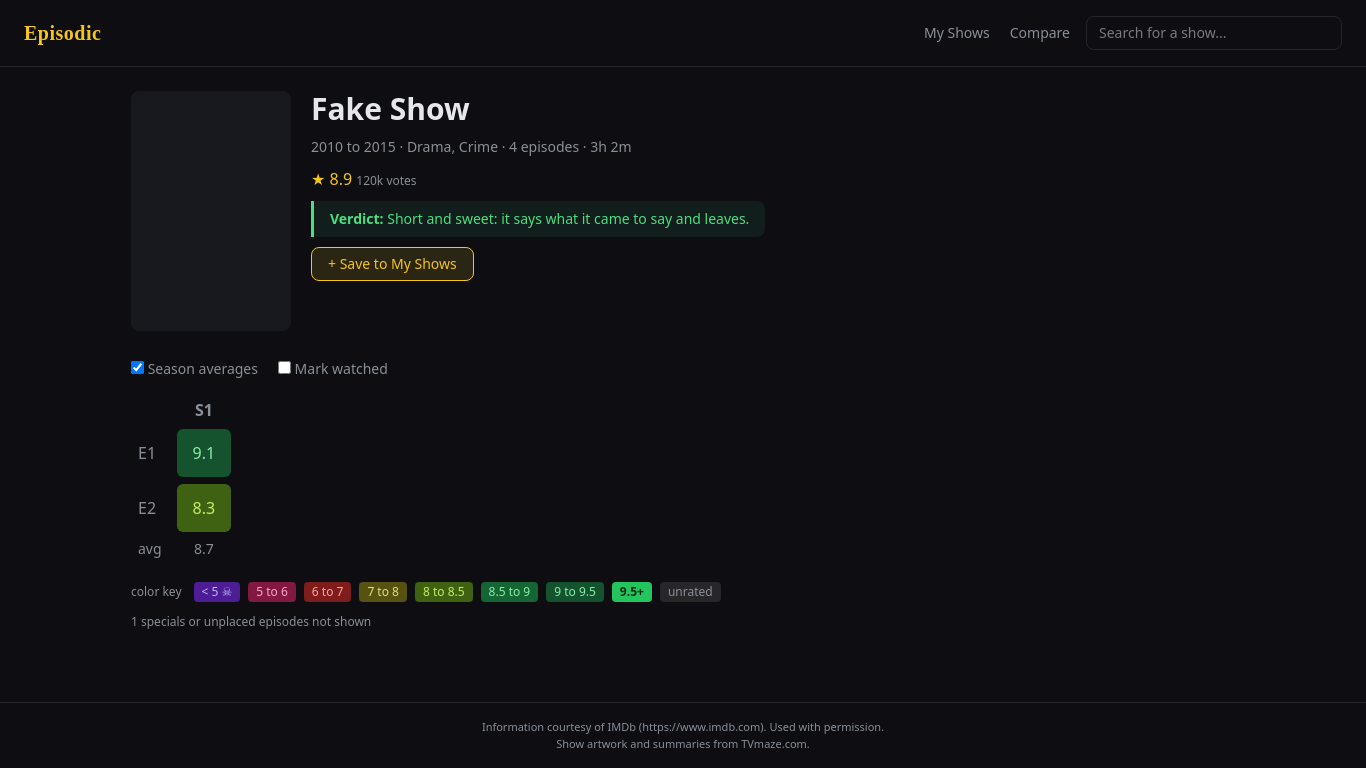
Test case: Show page › marks an episode watched through watch mode
Expected: the heading "Fake Show" is shown, top-left (311, 88), bottom-right (470, 129)
Step 1. Click the checkbox labelled "Mark watched" → (284, 368), box top-left (278, 361), bottom-right (291, 374)
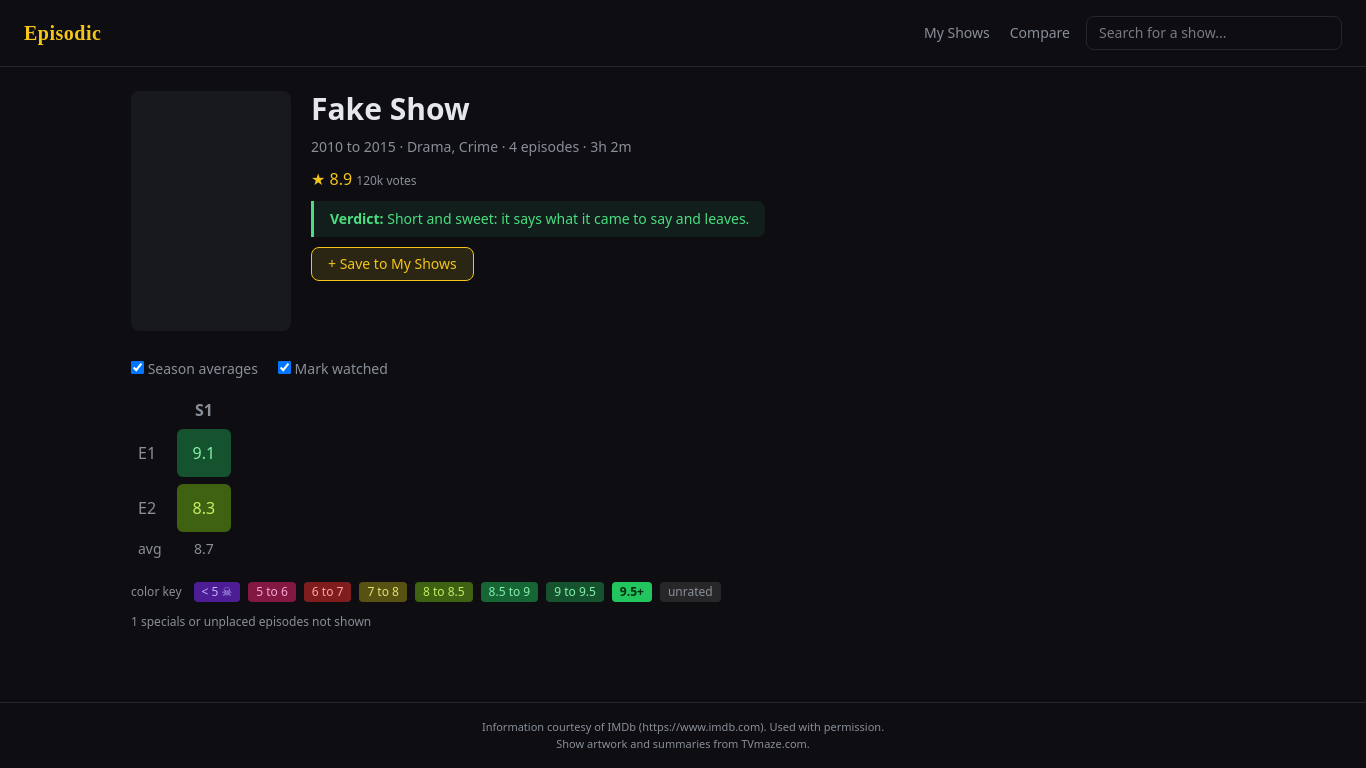
Step 2. Click the button "9.1" → (204, 453), box top-left (177, 429), bottom-right (231, 477)
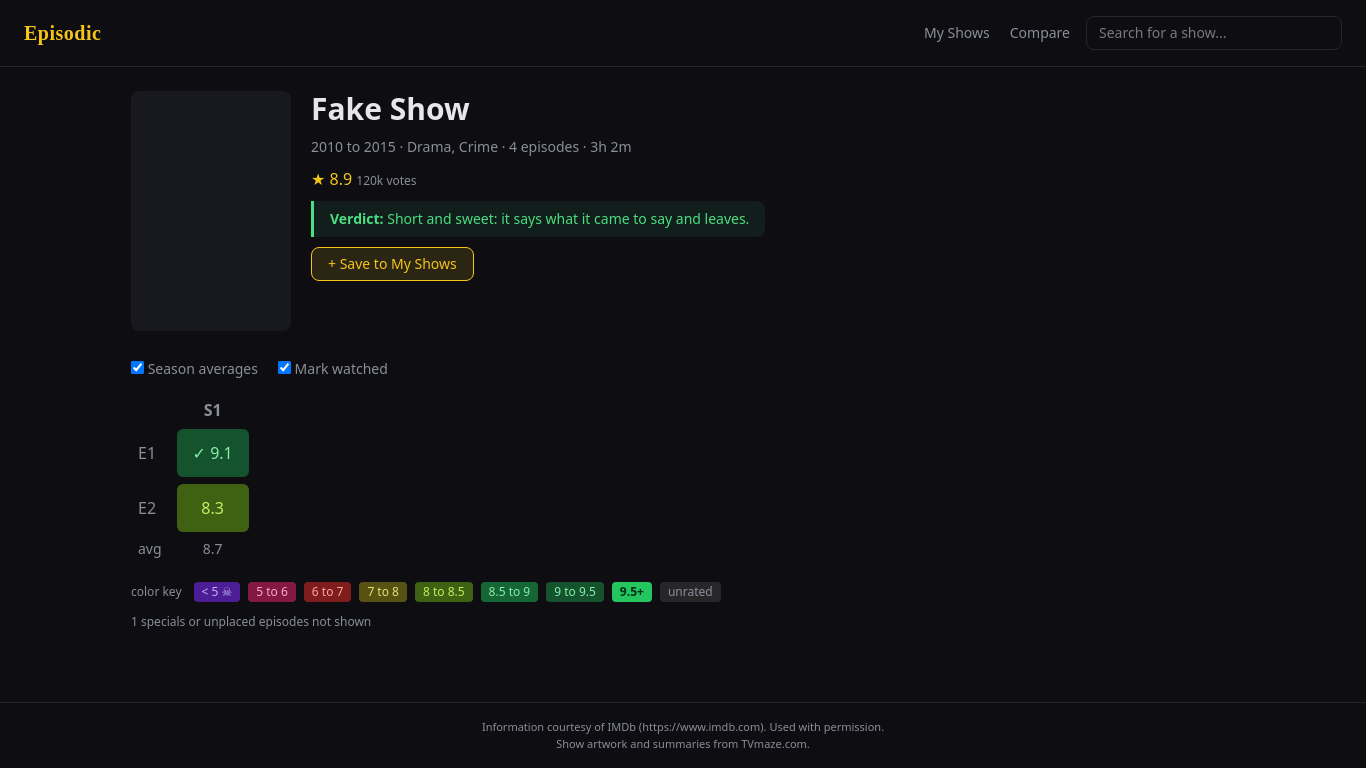
Result: the text named "S1E1 Pilot" shows "✓" at top-left (193, 442), bottom-right (210, 464)
